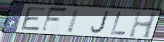E: (20, 7, 47, 32)
F: (39, 7, 69, 34)
H: (127, 9, 159, 40)
I: (65, 8, 82, 35)
J: (89, 10, 110, 34)
L: (109, 11, 128, 36)
